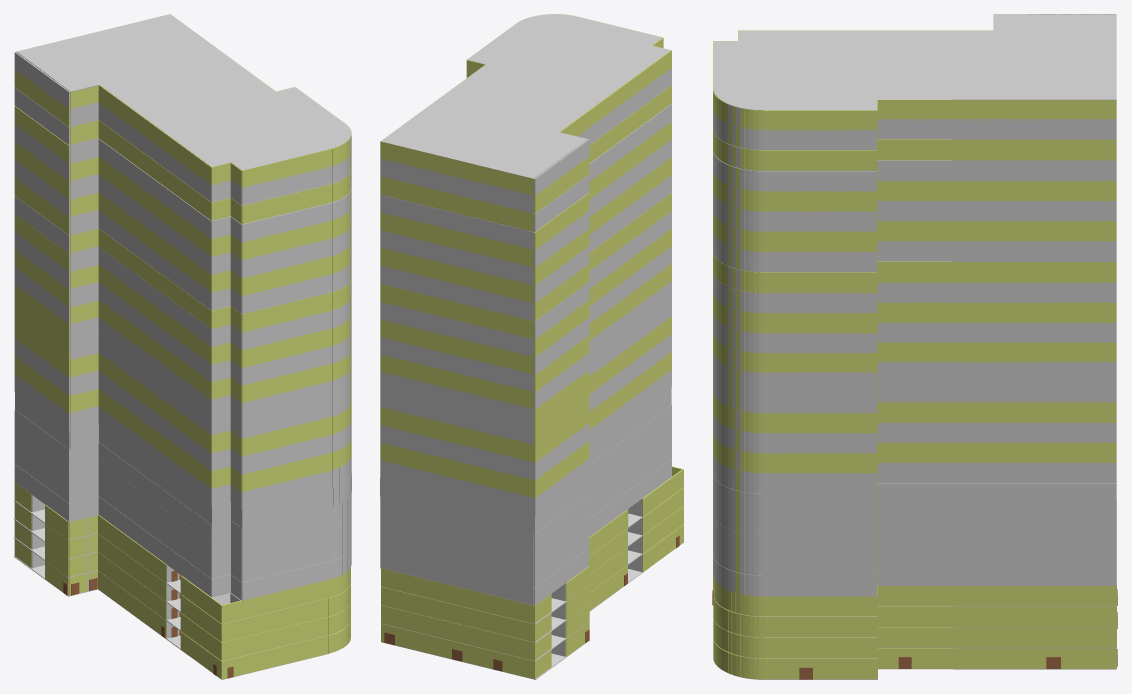
File: BconCity.glb
The picture shows the model from 3 angles, left to right: view 1: azimuth 30°, elevation 25°; view 2: azimuth 150°, elevation 25°; view 3: azimuth 270°, elevation 25°; orthographic projection. The views are drawn at different scales.
Parts seen in each view (by area): view 1: San_Vien_Ngoai.025, Tuong_Vien_Ngoai_13.090, Tuong_Vien_Ngoai_13.009, Tuong_Vien_Ngoai_13.005, Tuong_Vien_Ngoai_13.082, Tuong_Vien_Ngoai_13.058, Tuong_Vien_Ngoai_13.001, Tuong_Vien_Ngoai_13.077, Tuong_Vien_Ngoai_13.061, Tuong_Vien_Ngoai_13.066, Tuong_Vien_Ngoai_13.105, Tuong_Vien_Ngoai_13.033 (+99 smaller); view 2: San_Vien_Ngoai.025, Tuong_Vien_Ngoai_0.050, Tuong_Vien_Ngoai_0.051, Tuong_Vien_Ngoai_0.047, Tuong_Vien_Ngoai_0.006, Tuong_Vien_Ngoai_0.007, Tuong_Vien_Ngoai_0.029, Tuong_Vien_Ngoai_0.041, Tuong_Vien_Ngoai_0.003, Tuong_Vien_Ngoai_0.009, Tuong_Vien_Ngoai_0.017, Tuong_Vien_Ngoai_0.053 (+79 smaller); view 3: San_Vien_Ngoai.025, Tuong_Vien_Ngoai_1.041, Tuong_Vien_Ngoai_1.039, Tuong_Vien_Ngoai_1.029, Tuong_Vien_Ngoai_1.005, Tuong_Vien_Ngoai_1.001, Tuong_Vien_Ngoai_1.007, Tuong_Vien_Ngoai_1.015, Tuong_Vien_Ngoai_1.031, Tuong_Vien_Ngoai_1.003, Tuong_Vien_Ngoai_1.009, Tuong_Vien_Ngoai_1.017 (+45 smaller).
Part boxes in pixels (<box>): San_Vien_Ngoai.025: <box>16,14,351,170</box>; Tuong_Vien_Ngoai_13.090: <box>98,84,211,184</box>; Tuong_Vien_Ngoai_13.009: <box>98,497,212,597</box>; Tuong_Vien_Ngoai_13.005: <box>98,442,212,542</box>; Tuong_Vien_Ngoai_13.082: <box>98,120,211,220</box>; Tuong_Vien_Ngoai_13.058: <box>98,228,211,328</box>; Tuong_Vien_Ngoai_13.001: <box>98,461,212,560</box>; Tuong_Vien_Ngoai_13.077: <box>98,139,211,238</box>; Tuong_Vien_Ngoai_13.061: <box>98,210,211,310</box>; Tuong_Vien_Ngoai_13.066: <box>98,192,211,292</box>; Tuong_Vien_Ngoai_13.105: <box>98,479,212,578</box>; Tuong_Vien_Ngoai_13.033: <box>98,335,211,435</box>; San_Vien_Ngoai.025: <box>380,14,670,178</box>; Tuong_Vien_Ngoai_0.050: <box>381,587,534,641</box>; Tuong_Vien_Ngoai_0.051: <box>381,605,534,660</box>; Tuong_Vien_Ngoai_0.047: <box>381,568,534,623</box>; Tuong_Vien_Ngoai_0.006: <box>380,550,533,605</box>; Tuong_Vien_Ngoai_0.007: <box>380,478,533,533</box>; Tuong_Vien_Ngoai_0.029: <box>380,284,533,339</box>; Tuong_Vien_Ngoai_0.041: <box>380,176,533,231</box>; Tuong_Vien_Ngoai_0.003: <box>380,496,533,551</box>; Tuong_Vien_Ngoai_0.009: <box>380,460,533,515</box>; Tuong_Vien_Ngoai_0.017: <box>380,389,533,444</box>; Tuong_Vien_Ngoai_0.053: <box>380,532,533,587</box>; San_Vien_Ngoai.025: <box>713,14,1116,110</box>; Tuong_Vien_Ngoai_1.041: <box>877,139,1116,160</box>; Tuong_Vien_Ngoai_1.039: <box>877,160,1116,181</box>; Tuong_Vien_Ngoai_1.029: <box>877,261,1116,282</box>; Tuong_Vien_Ngoai_1.005: <box>877,565,1116,585</box>; Tuong_Vien_Ngoai_1.001: <box>877,524,1116,544</box>; Tuong_Vien_Ngoai_1.007: <box>877,483,1116,503</box>; Tuong_Vien_Ngoai_1.015: <box>877,402,1116,422</box>; Tuong_Vien_Ngoai_1.031: <box>877,241,1116,261</box>; Tuong_Vien_Ngoai_1.003: <box>877,504,1116,524</box>; Tuong_Vien_Ngoai_1.009: <box>877,463,1116,483</box>; Tuong_Vien_Ngoai_1.017: <box>877,382,1116,402</box>.
Size of the model in its own units: 45.86 by 125 by 80.67.
